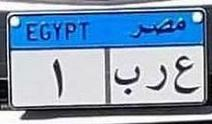1: (51, 58, 67, 99)
ain: (172, 52, 200, 98)
baa: (113, 63, 141, 100)
raa: (143, 61, 171, 94)
